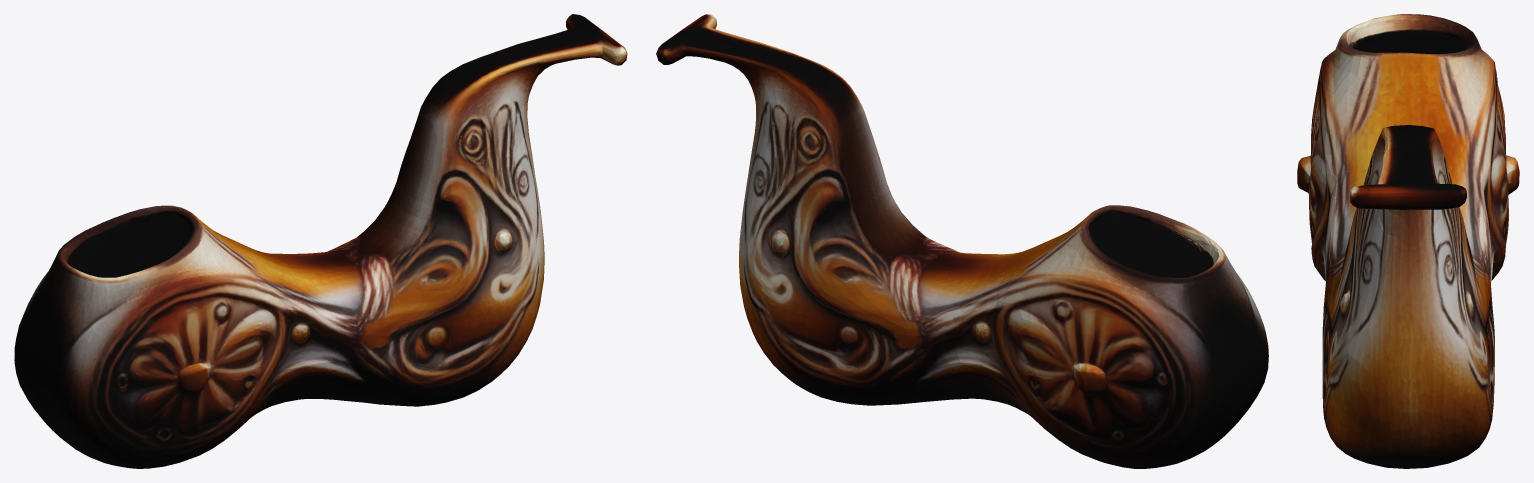
The model's file is wooden-pipe-art-deco.jpeg.glb.
The picture shows the model from 3 angles, left to right: view 1: azimuth 30°, elevation 25°; view 2: azimuth 150°, elevation 25°; view 3: azimuth 270°, elevation 25°; orthographic projection. The views are drawn at different scales.
Parts seen in each view (by area): view 1: world; view 2: world; view 3: world.
Boxes of the visible parts, x1=… form: world: x1=14, y1=14, x2=627, y2=468; world: x1=656, y1=14, x2=1268, y2=468; world: x1=1297, y1=14, x2=1519, y2=468.
Bounding box in the file's own units: 1 × 0.5374 × 0.2972.
1 material, 1 textured.
